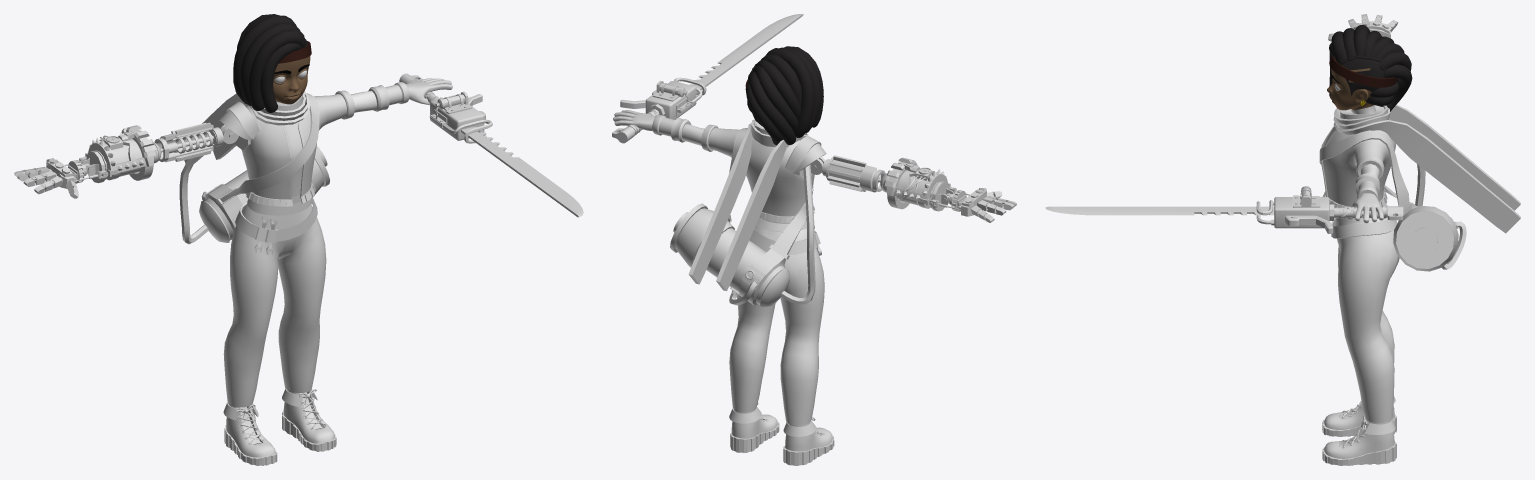
File: Karahhhhhhhhhhhhhh.fbx
The picture shows the model from 3 angles, left to right: view 1: azimuth 30°, elevation 25°; view 2: azimuth 150°, elevation 25°; view 3: azimuth 270°, elevation 25°; orthographic projection. The views are drawn at different scales.
Visible parts, largest first — view 1: Pants, Jacket, Shoes, Weapon Holder, Ports, Cylinder.001, Blade, Scarf, Battery Pack, Hair Strand 1, Belt1, Head (+9 smaller); view 2: Pants, Weapon Holder, Scarf, Jacket, Shoes, Ports, Cylinder.001, Blade, Battery Pack, Hair Strand 4, Power Cable, Hair Strand 5 (+11 smaller); view 3: Pants, Scarf, Weapon Holder, Shoes, Jacket, Blade, Battery Pack, Head, Belt1, Shaved Part Head, Headband, Handle (+3 smaller).
Boxes of the visible parts, x1=… form: Pants: x1=223, y1=204, x2=326, y2=407; Jacket: x1=241, y1=90, x2=354, y2=206; Shoes: x1=223, y1=388, x2=336, y2=465; Weapon Holder: x1=199, y1=93, x2=329, y2=242; Ports: x1=85, y1=125, x2=157, y2=180; Cylinder.001: x1=153, y1=122, x2=223, y2=162; Blade: x1=461, y1=127, x2=583, y2=217; Scarf: x1=184, y1=91, x2=310, y2=163; Battery Pack: x1=430, y1=91, x2=485, y2=140; Hair Strand 1: x1=248, y1=29, x2=306, y2=110; Belt1: x1=235, y1=197, x2=317, y2=242; Head: x1=273, y1=56, x2=310, y2=104; Pants: x1=729, y1=225, x2=824, y2=425; Weapon Holder: x1=670, y1=128, x2=813, y2=307; Scarf: x1=688, y1=119, x2=808, y2=290; Jacket: x1=701, y1=124, x2=814, y2=222; Shoes: x1=729, y1=403, x2=834, y2=465; Ports: x1=884, y1=157, x2=950, y2=209; Cylinder.001: x1=822, y1=155, x2=887, y2=192; Blade: x1=689, y1=14, x2=803, y2=93; Battery Pack: x1=620, y1=80, x2=696, y2=119; Hair Strand 4: x1=766, y1=48, x2=814, y2=137; Power Cable: x1=780, y1=164, x2=815, y2=304; Hair Strand 5: x1=748, y1=72, x2=796, y2=144; Pants: x1=1335, y1=217, x2=1399, y2=422; Scarf: x1=1333, y1=104, x2=1520, y2=233; Weapon Holder: x1=1319, y1=130, x2=1466, y2=271; Shoes: x1=1322, y1=396, x2=1396, y2=465; Jacket: x1=1321, y1=118, x2=1395, y2=207; Blade: x1=1045, y1=206, x2=1274, y2=215; Battery Pack: x1=1274, y1=186, x2=1333, y2=233; Head: x1=1327, y1=68, x2=1373, y2=110; Belt1: x1=1331, y1=217, x2=1397, y2=238; Shaved Part Head: x1=1341, y1=58, x2=1385, y2=95; Headband: x1=1329, y1=54, x2=1397, y2=87; Handle: x1=1329, y1=204, x2=1403, y2=220.
Size of the model in its own units: 181 by 168 by 175.
